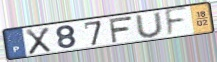7: (83, 20, 103, 46)
8: (55, 24, 79, 49)
F: (164, 6, 190, 39), (107, 15, 134, 44)
U: (134, 11, 166, 38)
X: (24, 27, 53, 56)
